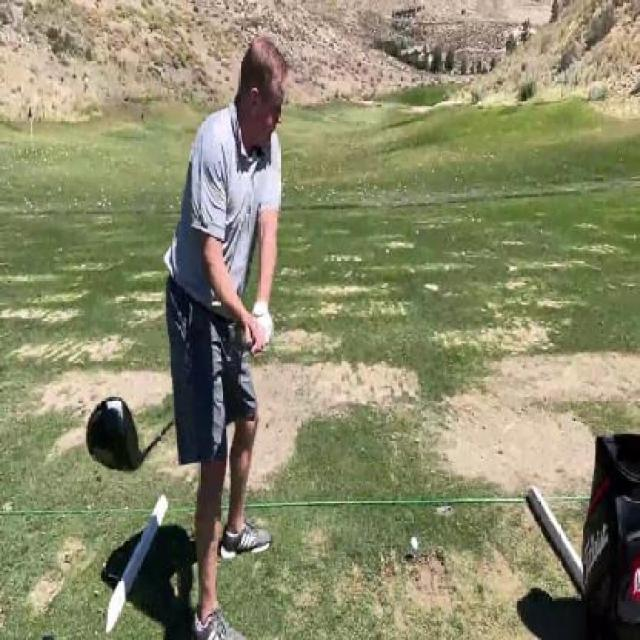club head: (85, 394, 149, 475)
